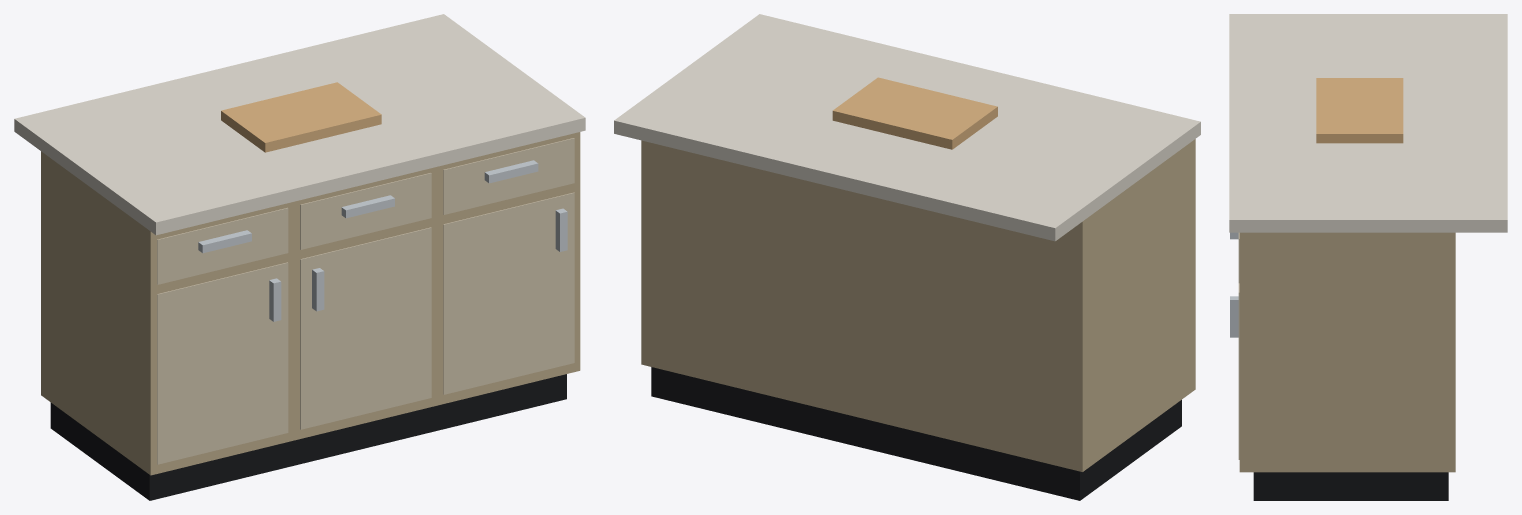
The model's file is kitchen_island.glb.
3 renders of one model, left to right at view 1: azimuth 30°, elevation 25°; view 2: azimuth 150°, elevation 25°; view 3: azimuth 270°, elevation 25°, orthographic. The views are drawn at different scales.
Visible parts, largest first — view 1: kitchen_island_Body; view 2: kitchen_island_Body; view 3: kitchen_island_Body.
Part boxes in pixels (left/top/right/bottom): kitchen_island_Body: left=14, top=14, right=585, bottom=500; kitchen_island_Body: left=614, top=14, right=1200, bottom=500; kitchen_island_Body: left=1229, top=14, right=1507, bottom=500.
Bounding box in the file's own units: 1.4 × 0.93 × 0.8.
